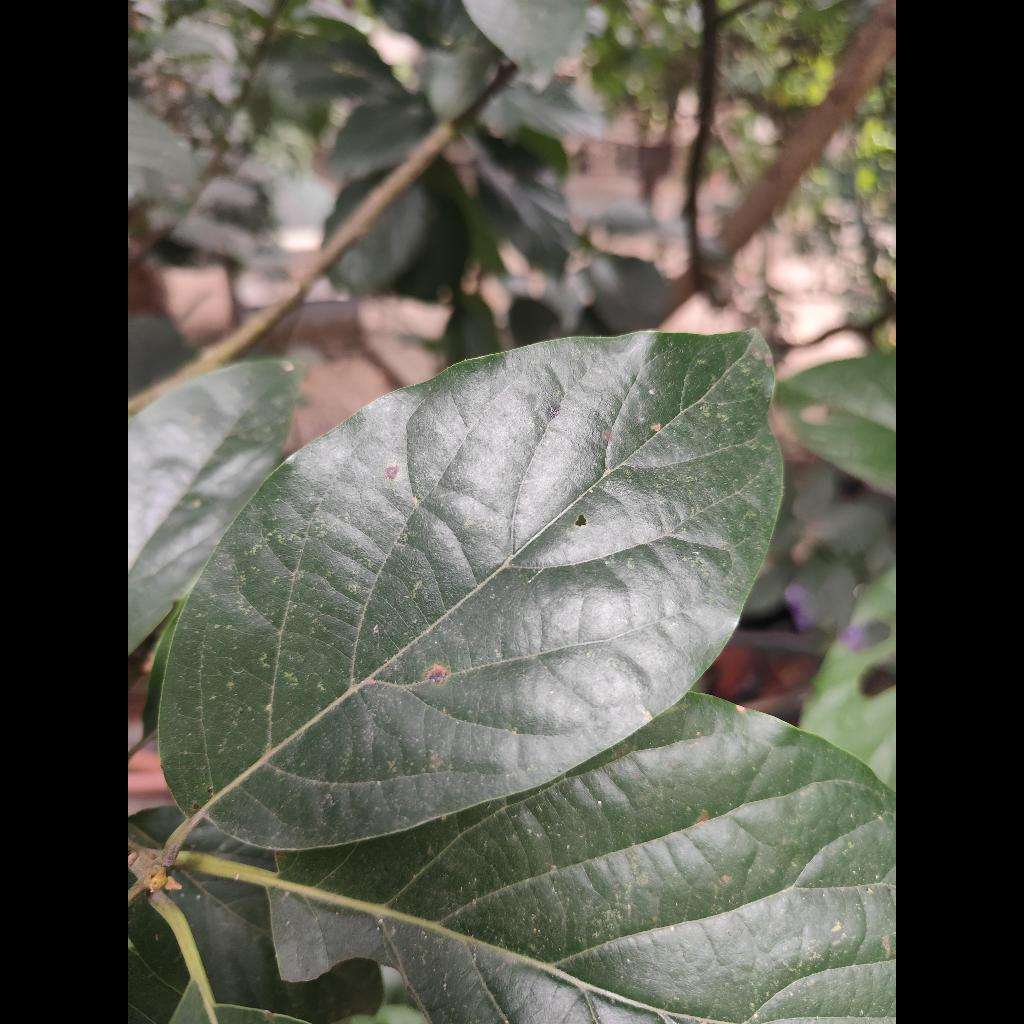Anthracnose: (159, 332, 781, 849)
